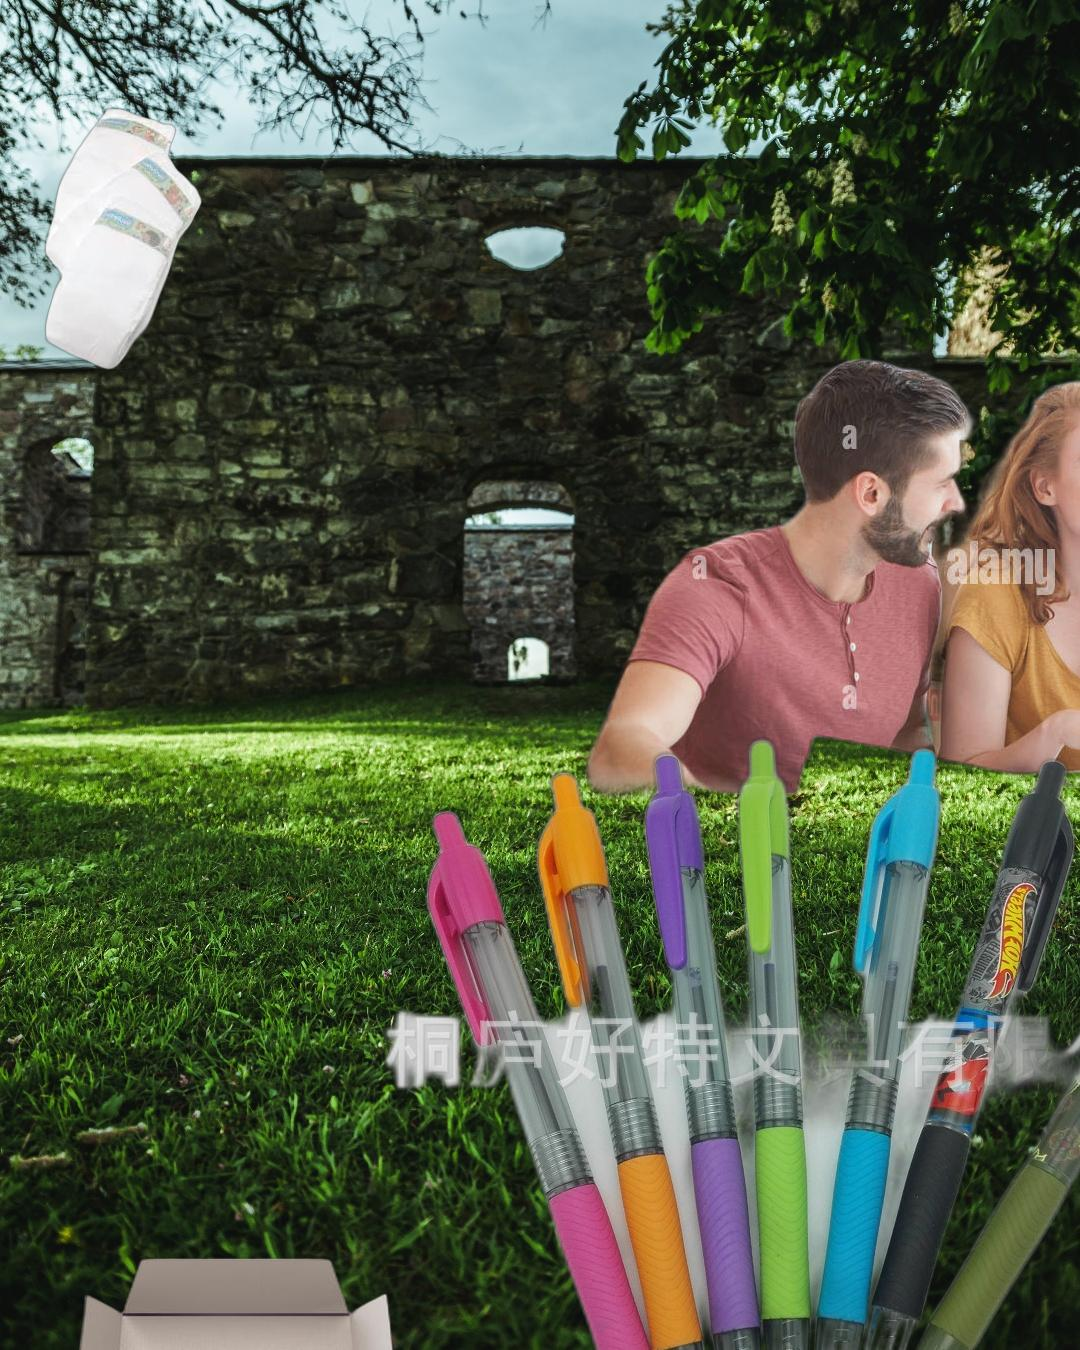penholder: (376, 731, 1080, 1350)
trash: (42, 105, 205, 372)
trashbox-cardboard: (574, 350, 1080, 860), (69, 1254, 403, 1350)
